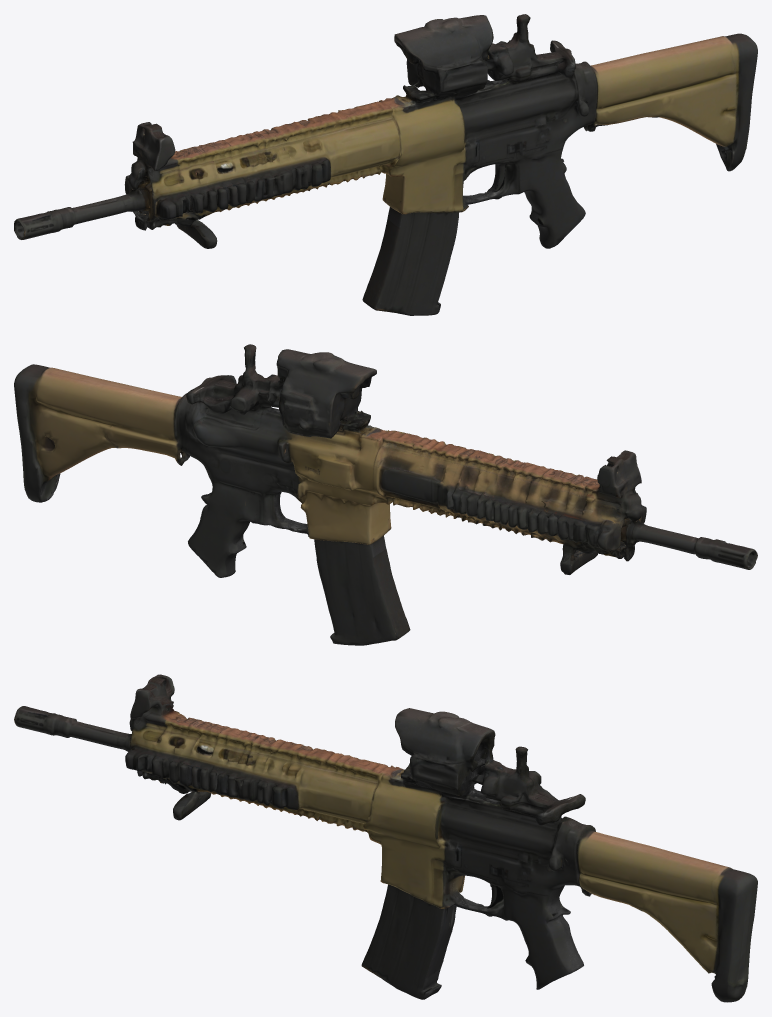
File: SCAR-L.glb
3 renders of one model, top to bottom at view 1: azimuth 30°, elevation 25°; view 2: azimuth 150°, elevation 25°; view 3: azimuth 330°, elevation 25°, orthographic.
Bounding box in the file's own units: 2 × 0.7389 × 0.214.
1 material, 1 textured.
